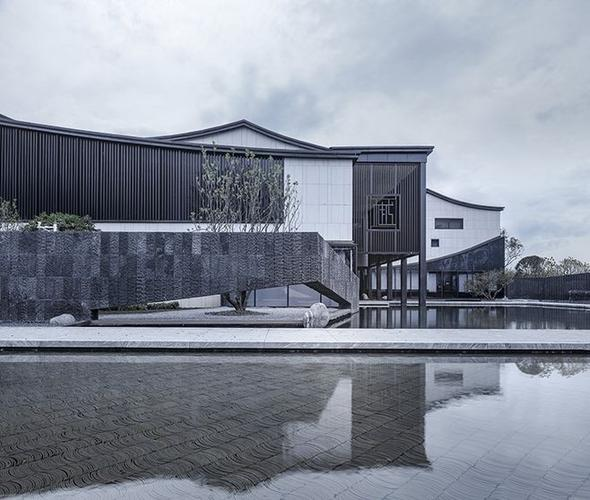buildings: (0, 112, 529, 308)
sky_cloud: (0, 2, 576, 108)
